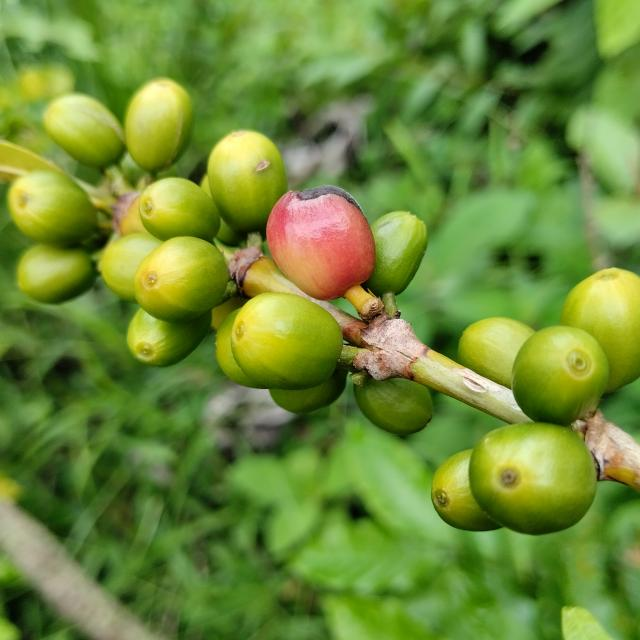green: (470, 423, 598, 536), (231, 292, 343, 391), (512, 326, 610, 427), (561, 268, 640, 393), (207, 130, 287, 233), (134, 236, 229, 322), (6, 169, 97, 248), (124, 77, 193, 173), (43, 93, 124, 168), (431, 450, 502, 532), (458, 317, 536, 389), (364, 211, 428, 296), (138, 177, 220, 243), (126, 308, 212, 367), (16, 244, 95, 303), (354, 378, 433, 436), (101, 232, 162, 302), (216, 308, 266, 389), (269, 370, 348, 414), (216, 218, 245, 246), (199, 173, 211, 197)
red: (266, 185, 384, 320)
